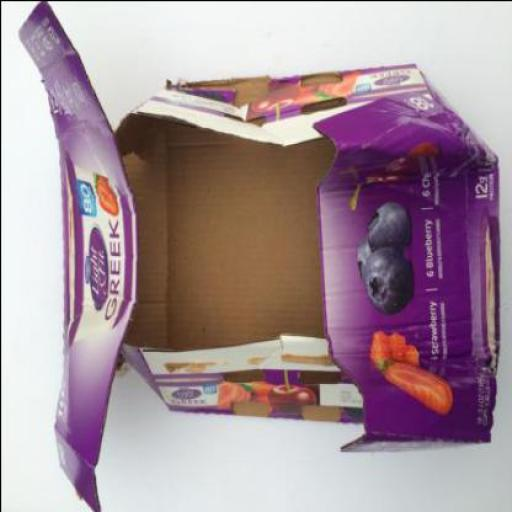cardboard: (14, 1, 500, 511), (113, 62, 427, 422), (311, 88, 498, 452), (16, 1, 135, 511)
